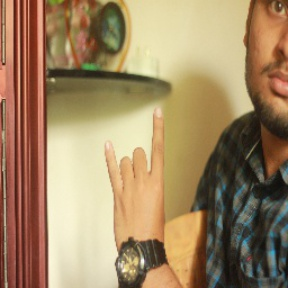V: (101, 106, 173, 250)
